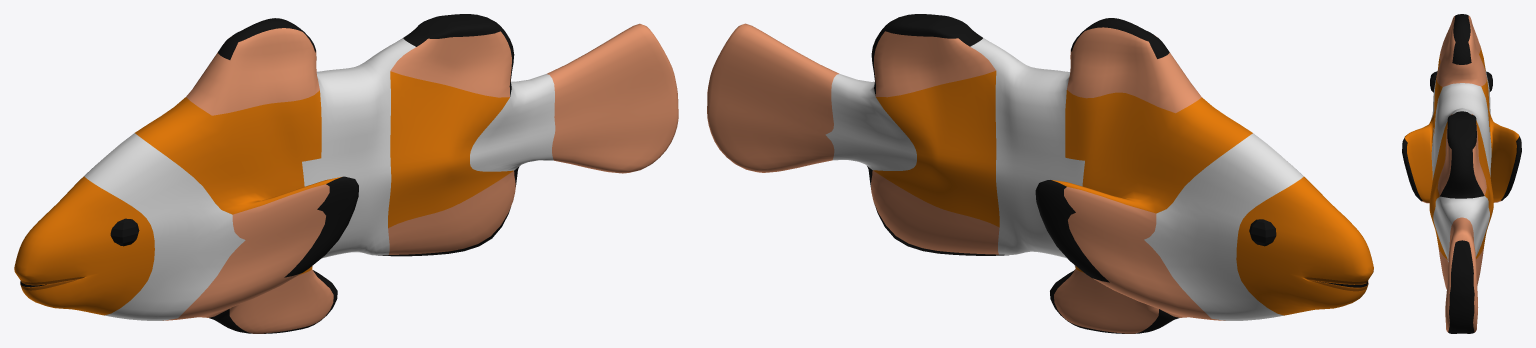
Rendered from FishClown.fbx.
3 views of the same model, side by side, from view 1: azimuth 30°, elevation 25°; view 2: azimuth 150°, elevation 25°; view 3: azimuth 270°, elevation 25° (orthographic). The views are drawn at different scales.
Visible parts, largest first — view 1: polySurface2, polySurface1; view 2: polySurface2, polySurface1; view 3: polySurface2, polySurface1.
Part boxes in pixels (box(x1,y1,x2,y2)): polySurface2: box(14, 14, 678, 333); polySurface1: box(110, 218, 139, 246); polySurface2: box(707, 14, 1373, 333); polySurface1: box(1249, 219, 1276, 246); polySurface2: box(1402, 14, 1521, 333); polySurface1: box(1430, 71, 1492, 92).
Bounding box in the file's own units: 14.32 × 6.52 × 2.97.
